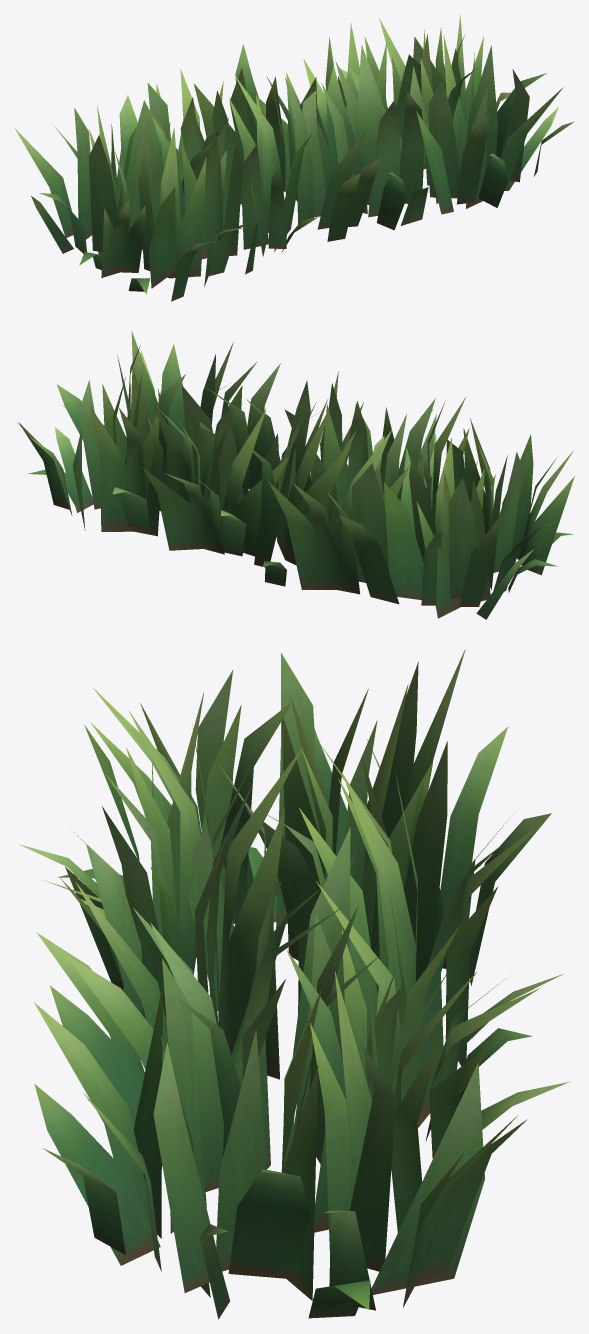
The model's file is pref_sm_beach_techgrass_alpha_yellow03_lv1.fbx.
The picture shows the model from 3 angles, top to bottom: view 1: azimuth 30°, elevation 25°; view 2: azimuth 150°, elevation 25°; view 3: azimuth 270°, elevation 25°; orthographic projection. The views are drawn at different scales.
Parts seen in each view (by area): view 1: pref_sm_beach_techgrass_alpha_yellow03_lv1; view 2: pref_sm_beach_techgrass_alpha_yellow03_lv1; view 3: pref_sm_beach_techgrass_alpha_yellow03_lv1.
Boxes of the visible parts, x1,y1,x2,y2 form: pref_sm_beach_techgrass_alpha_yellow03_lv1: [14, 14, 574, 301]; pref_sm_beach_techgrass_alpha_yellow03_lv1: [17, 331, 574, 619]; pref_sm_beach_techgrass_alpha_yellow03_lv1: [19, 649, 569, 1319].
Bounding box in the file's own units: 6.22 × 2.03 × 2.97.
